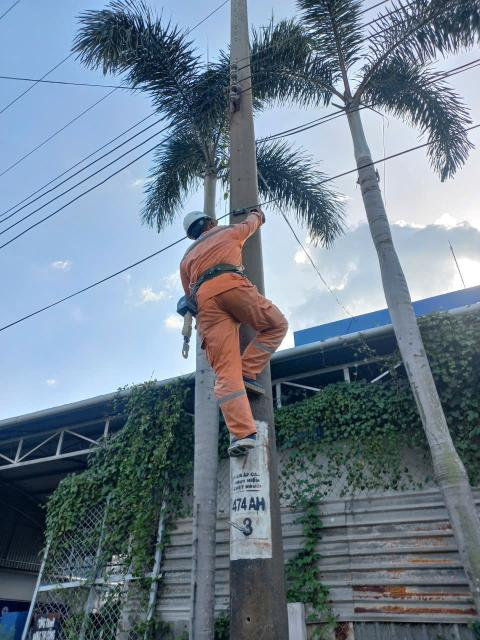harness: (186, 262, 249, 284)
helmet: (180, 209, 222, 237)
shoes: (216, 424, 261, 458), (238, 367, 270, 408)
